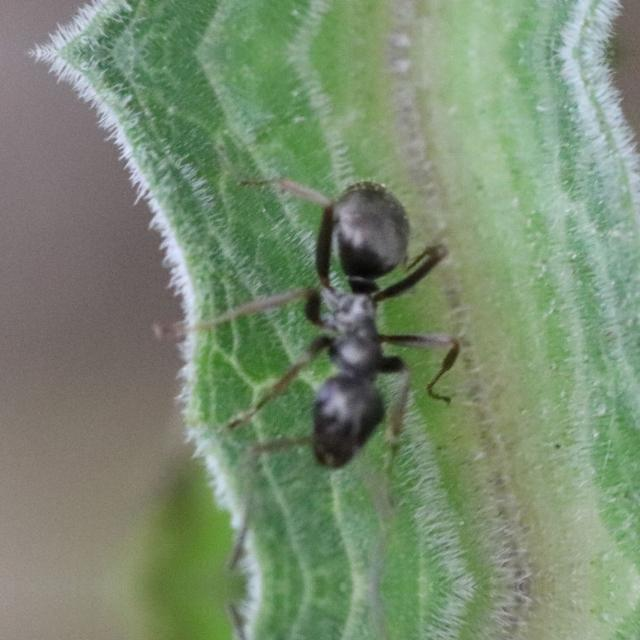Formica: (229, 161, 455, 491)
